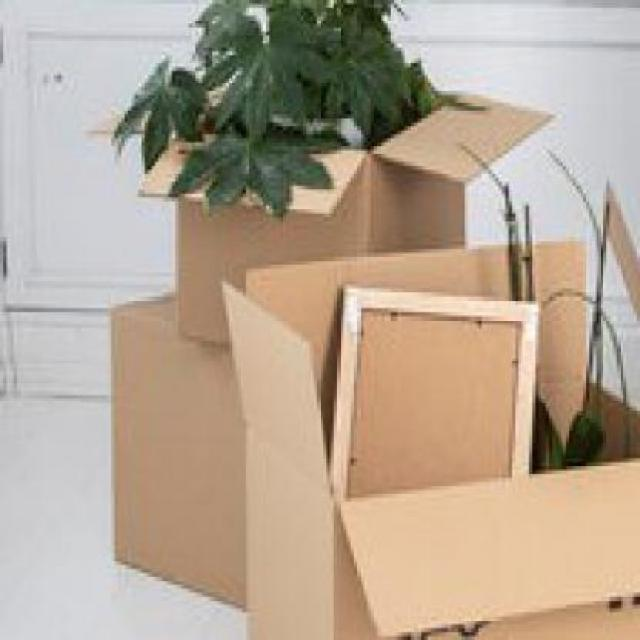box: (235, 247, 639, 640), (132, 81, 506, 337), (111, 290, 288, 616)
